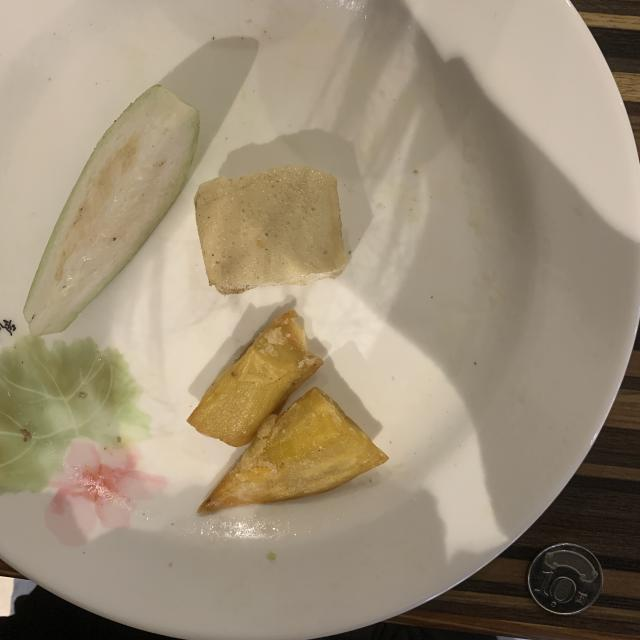coin: (528, 544, 602, 615)
creamy tofu -without sauce-: (195, 165, 348, 294)
guava -sliced-: (24, 85, 199, 335)
